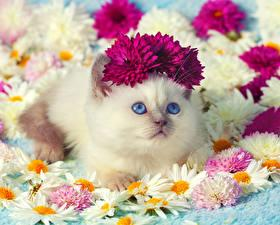chamomile: (26, 199, 69, 225), (115, 173, 157, 198), (81, 194, 112, 223), (223, 163, 260, 187), (13, 161, 60, 179), (169, 171, 197, 197), (0, 184, 27, 210), (5, 86, 34, 105), (100, 214, 146, 225), (72, 174, 101, 191)
